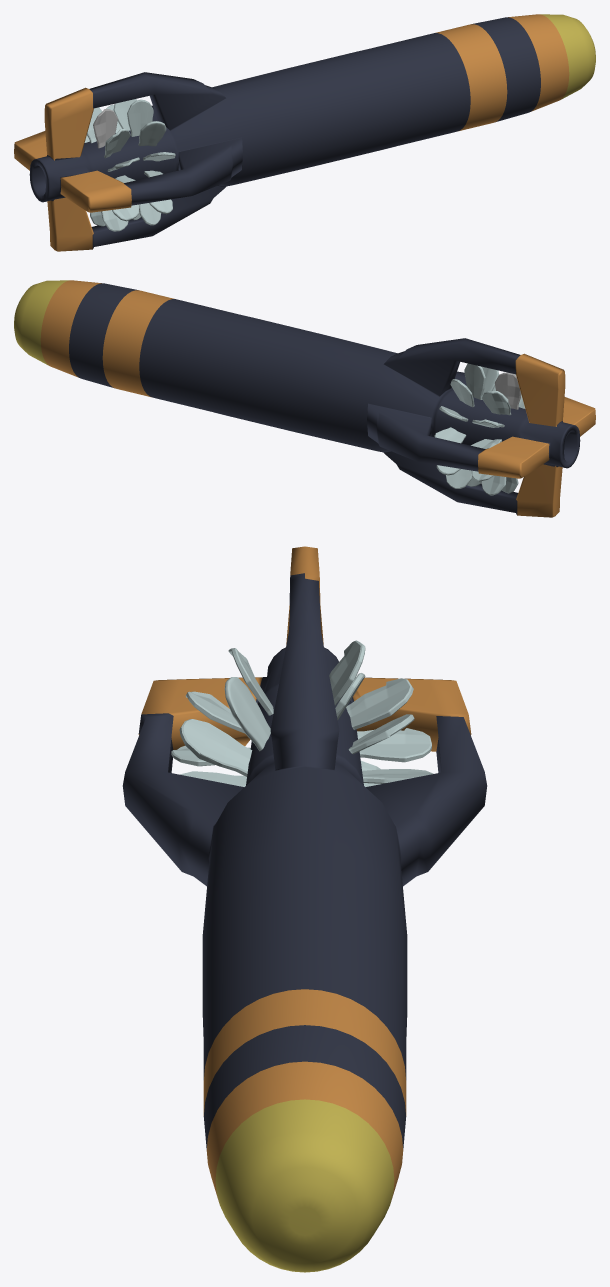
Rendered from torpedofbx.fbx.
3 renders of one model, top to bottom at view 1: azimuth 30°, elevation 25°; view 2: azimuth 150°, elevation 25°; view 3: azimuth 270°, elevation 25°, orthographic. The views are drawn at different scales.
Visible parts, largest first — view 1: body, pCube1, pCube2, pCube3, pCube15, pCube13, pCube19, pCube7; view 2: body, pCube2, pCube1, pCube25, pCube9, pCube13, pCube21, pCube11; view 3: body, pCube4, pCube24, pCube3, pCube23, pCube25, pCube16.
Part boxes in pixels (box(x1,y1,x2,y2)): body: box(14, 14, 595, 251); pCube1: box(127, 99, 153, 136); pCube2: box(93, 109, 117, 148); pCube3: box(138, 121, 166, 146); pCube15: box(104, 129, 130, 158); pCube13: box(113, 99, 136, 130); pCube19: box(101, 210, 128, 231); pCube7: box(139, 203, 161, 225); body: box(14, 280, 595, 517); pCube2: box(494, 372, 521, 409); pCube1: box(464, 363, 485, 399); pCube25: box(482, 391, 511, 415); pCube9: box(445, 469, 471, 488); pCube13: box(450, 379, 474, 407); pCube21: box(481, 475, 506, 495); pCube11: box(434, 427, 466, 443); body: box(122, 546, 487, 1272); pCube4: box(179, 719, 252, 776); pCube24: box(346, 678, 413, 729); pCube3: box(224, 677, 270, 751); pCube23: box(357, 728, 431, 762); pCube25: box(329, 640, 365, 705); pCube16: box(185, 691, 244, 733).
Bounding box in the file's own units: 12.38 × 3.46 × 3.56.
